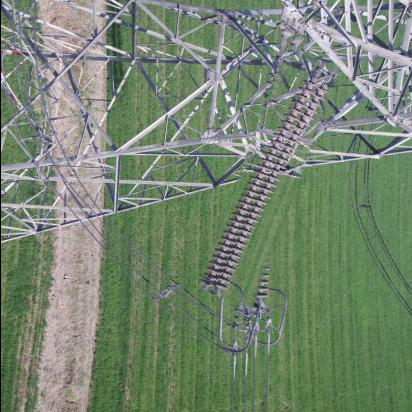insulator: (219, 49, 320, 308)
